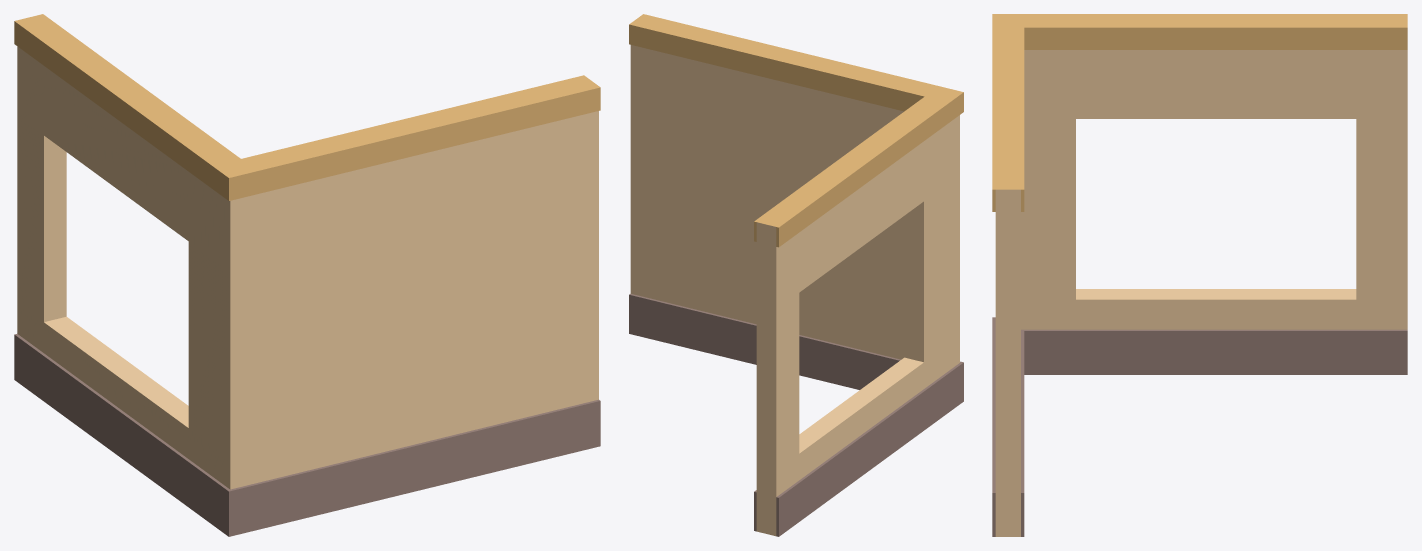
Rendered from Wall01-05.fbx.
The picture shows the model from 3 angles, left to right: view 1: azimuth 30°, elevation 25°; view 2: azimuth 150°, elevation 25°; view 3: azimuth 270°, elevation 25°; orthographic projection. The views are drawn at different scales.
Visible parts, largest first — view 1: Wall01-05; view 2: Wall01-05; view 3: Wall01-05.
Boxes of the visible parts, bbox=[...] form: Wall01-05: bbox=[14, 14, 600, 536]; Wall01-05: bbox=[629, 14, 963, 536]; Wall01-05: bbox=[992, 14, 1407, 536].
Bounding box in the file's own units: 3.25 × 3.25 × 3.
